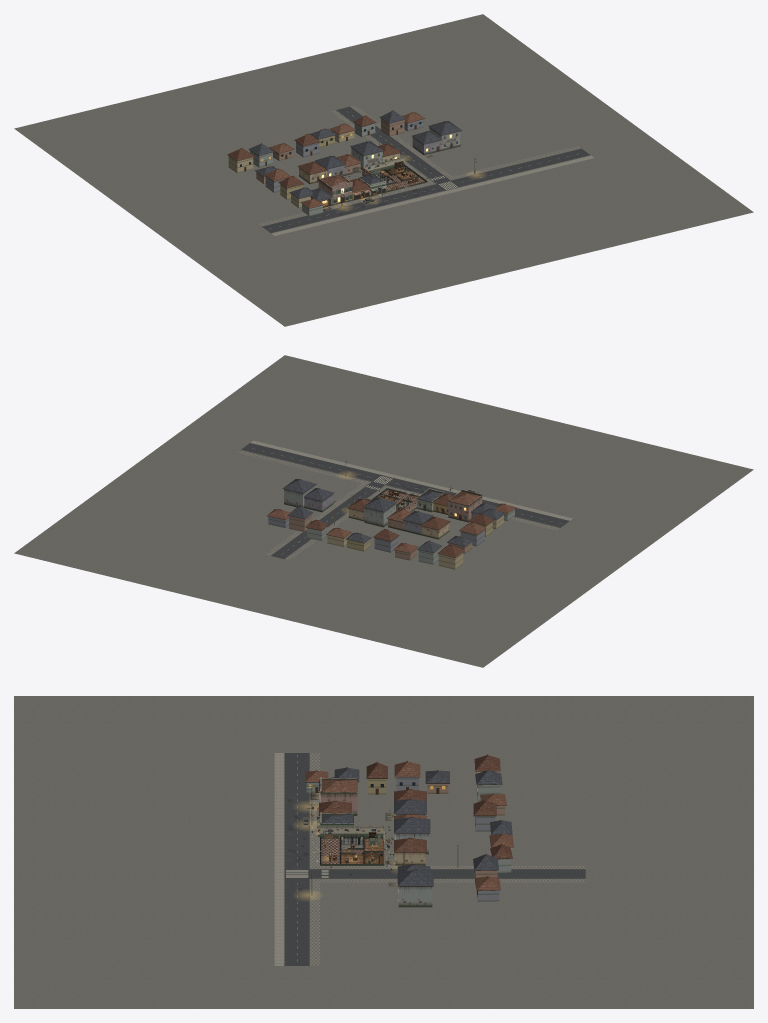
File: delegacia_21h.glb
The picture shows the model from 3 angles, top to bottom: view 1: azimuth 30°, elevation 25°; view 2: azimuth 150°, elevation 25°; view 3: azimuth 270°, elevation 25°; orthographic projection. The views are drawn at different scales.
Size of the model in its own units: 220 by 11.85 by 220.
Materials: 574 (158 with a texture image).
